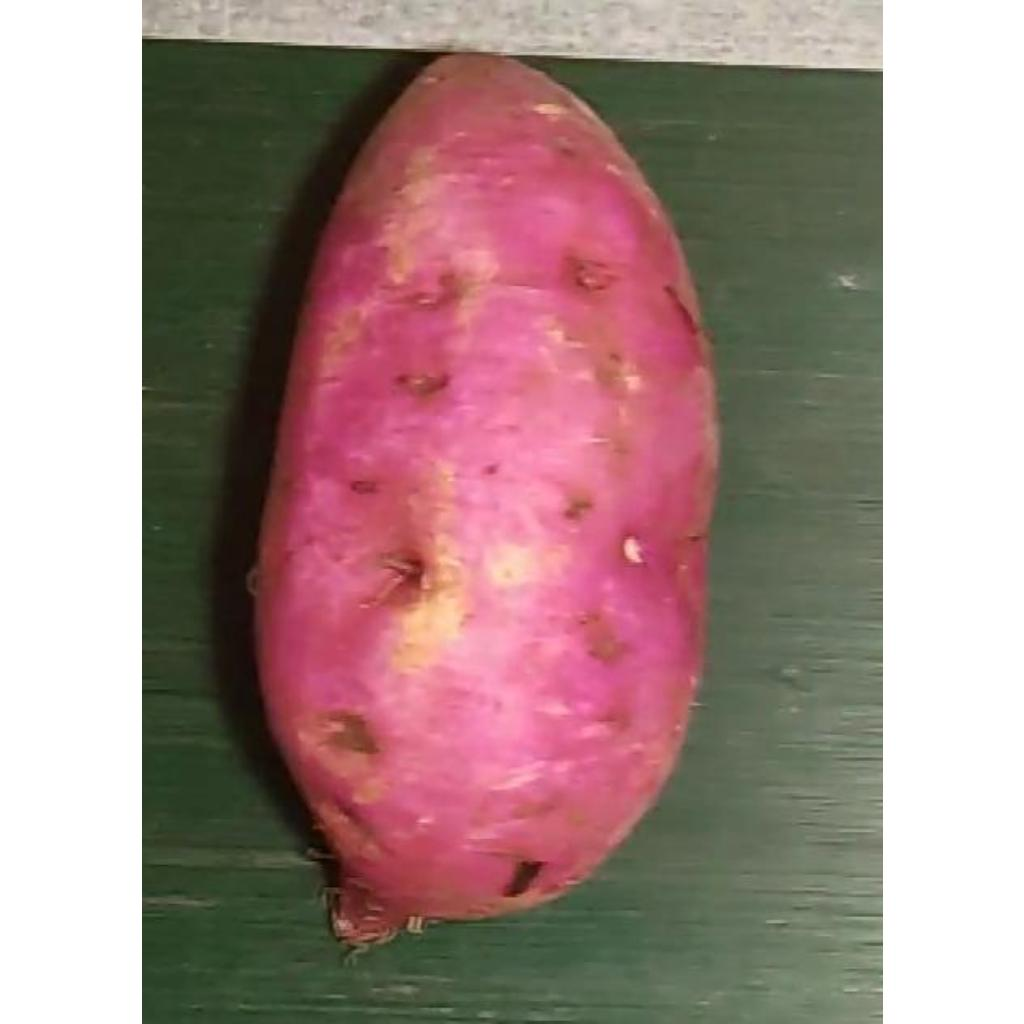Sweet Potato: (250, 55, 713, 944)
